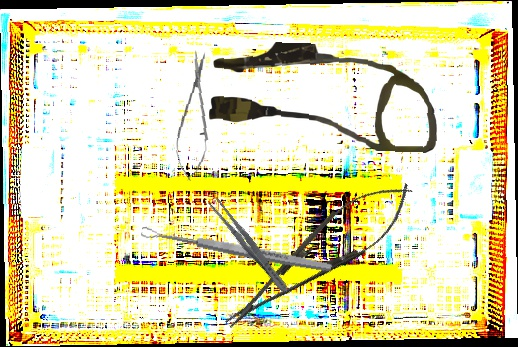Cannula: (208, 40, 440, 153)
Dressing Forceps: (206, 195, 293, 297)
Micro Scissor: (172, 49, 217, 183)
Needle Holder: (211, 165, 425, 346)
Surgical Spoon: (140, 224, 333, 275)
